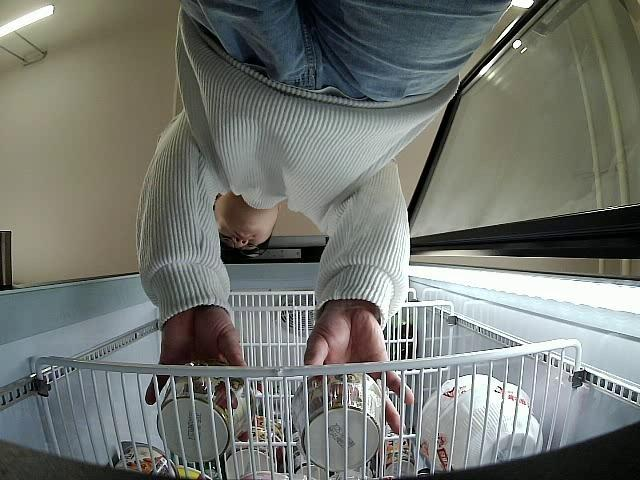04_chapagetti_S: (289, 370, 385, 472), (156, 367, 256, 463)
